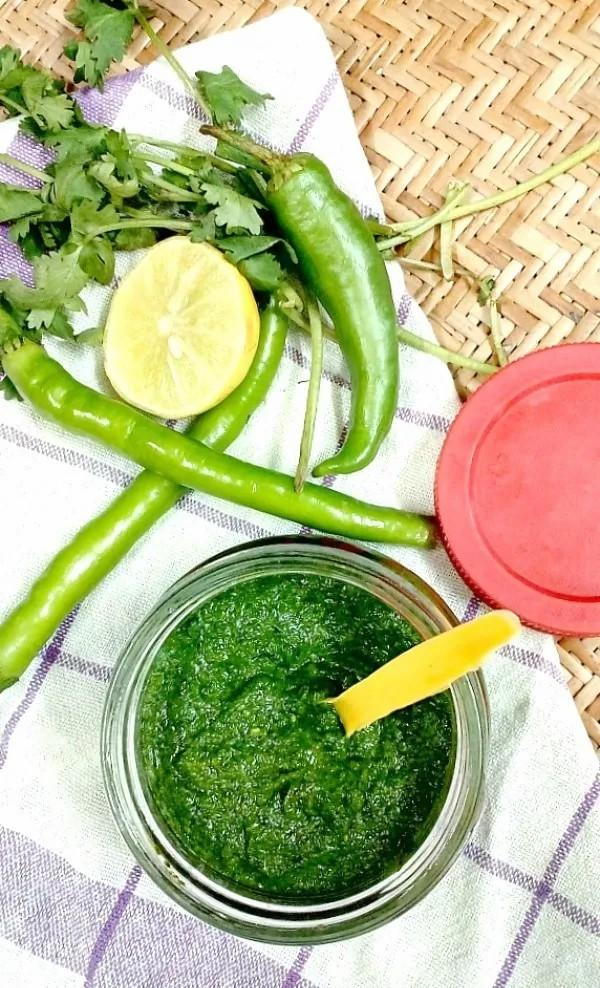GreenChutney: (138, 572, 447, 903)
